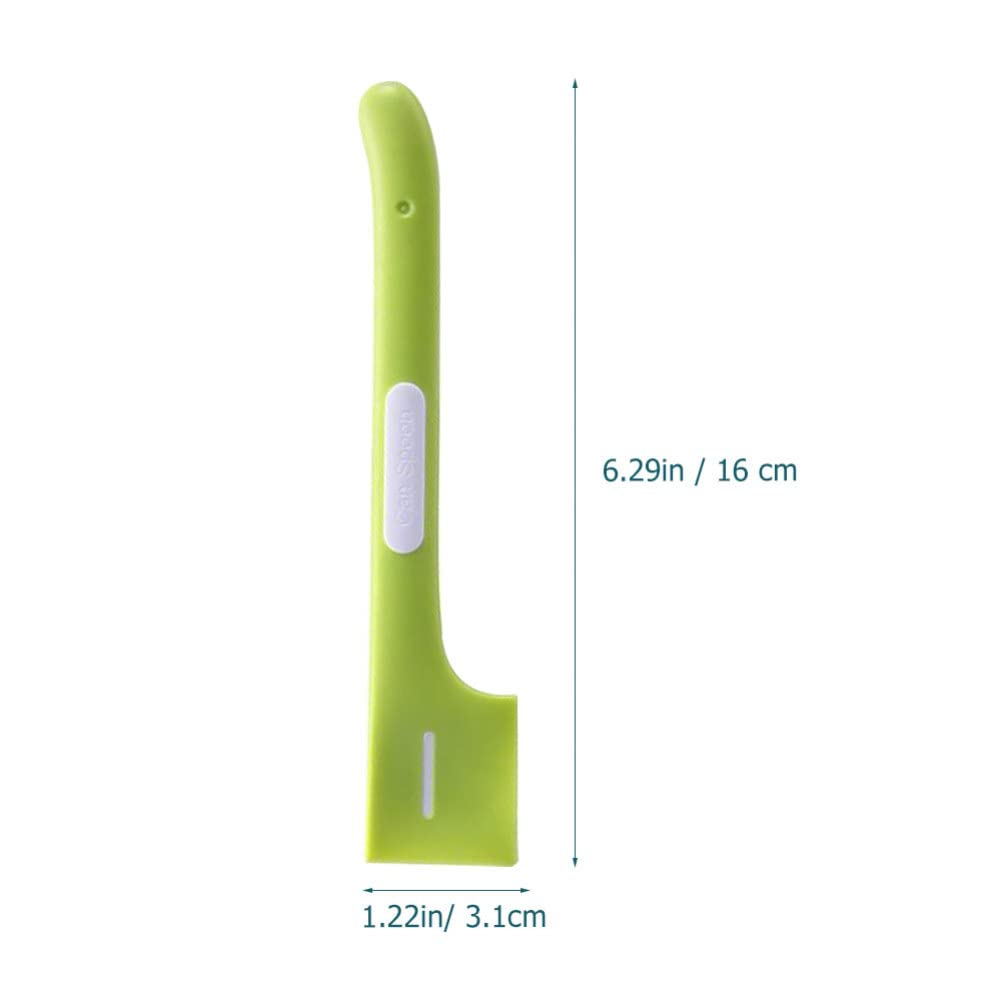/: (694, 457, 705, 486)
1.22in/: (364, 904, 455, 932)
16: (719, 458, 748, 482)
3.1cm: (466, 904, 546, 928)
6.29in: (603, 458, 683, 482)
cm: (759, 463, 797, 481)
